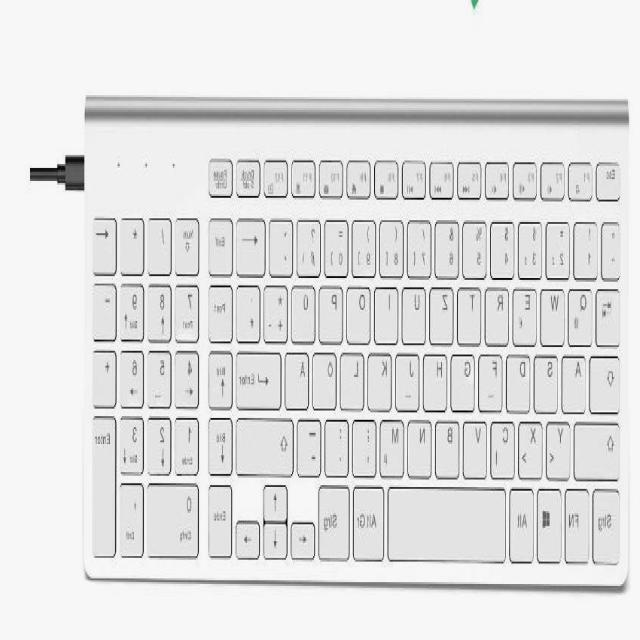0: (326, 213, 351, 273)
1: (575, 217, 600, 275)
2: (547, 217, 573, 275)
3: (520, 215, 545, 275)
4: (493, 215, 518, 275)
5: (465, 215, 490, 275)
6: (438, 215, 462, 275)
7: (410, 215, 434, 273)
8: (382, 213, 407, 273)
9: (354, 213, 379, 273)
a: (563, 349, 588, 409)
accent: (271, 213, 296, 271)
ae: (286, 345, 312, 407)
alt-left: (510, 480, 536, 560)
altgr-right: (355, 478, 387, 558)
b: (437, 414, 463, 474)
c: (492, 414, 518, 474)
caret: (603, 217, 623, 275)
comma: (355, 412, 380, 472)
d: (508, 347, 533, 409)
del: (236, 211, 268, 278)
e: (514, 280, 540, 342)
enter: (236, 343, 284, 405)
f: (481, 347, 506, 407)
g: (453, 347, 478, 407)
h: (425, 347, 450, 407)
hash: (238, 278, 263, 338)
i: (377, 280, 401, 340)
j: (398, 347, 422, 407)
k: (370, 347, 394, 407)
keyboard: (83, 92, 633, 596)
l: (343, 345, 367, 405)
m: (381, 412, 407, 474)
minus: (299, 412, 325, 472)
n: (410, 414, 435, 474)
o: (349, 280, 374, 340)
oe: (315, 345, 339, 407)
p: (321, 280, 346, 340)
plus: (266, 278, 291, 338)
point: (327, 412, 352, 472)
q: (570, 282, 596, 342)
r: (487, 282, 512, 342)
s: (536, 349, 561, 409)
shift-left: (577, 414, 623, 476)
shift-lock: (592, 349, 624, 409)
shift-right: (238, 411, 296, 473)
space: (390, 478, 508, 560)
ss: (299, 213, 324, 273)
strg-left: (595, 482, 623, 562)
strg-right: (320, 478, 353, 556)
t: (460, 280, 484, 340)
tab: (597, 282, 622, 342)
u: (404, 280, 430, 340)
ue: (294, 278, 319, 340)
v: (465, 414, 490, 474)
w: (542, 282, 568, 342)
x: (520, 414, 546, 476)
y: (547, 414, 573, 476)
z: (432, 280, 457, 340)
